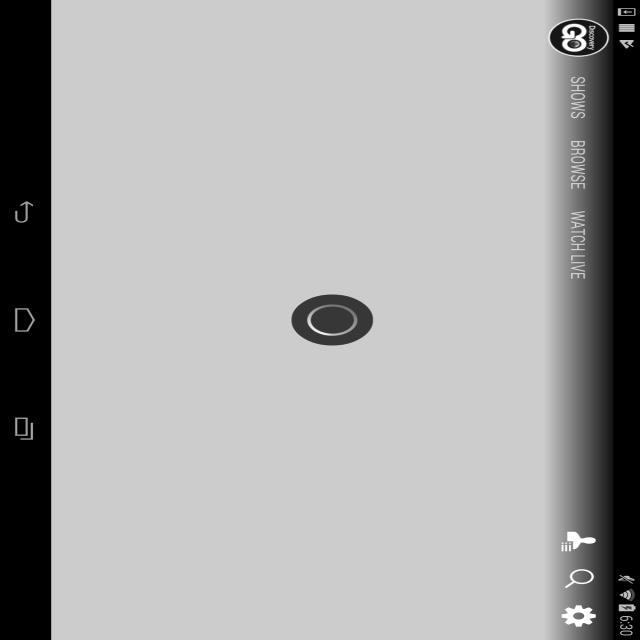ImageView: (26, 17, 105, 60)
ProgressBar: (471, 166, 554, 218)
TextView: (320, 17, 464, 60), (207, 17, 319, 60), (105, 17, 207, 60)
